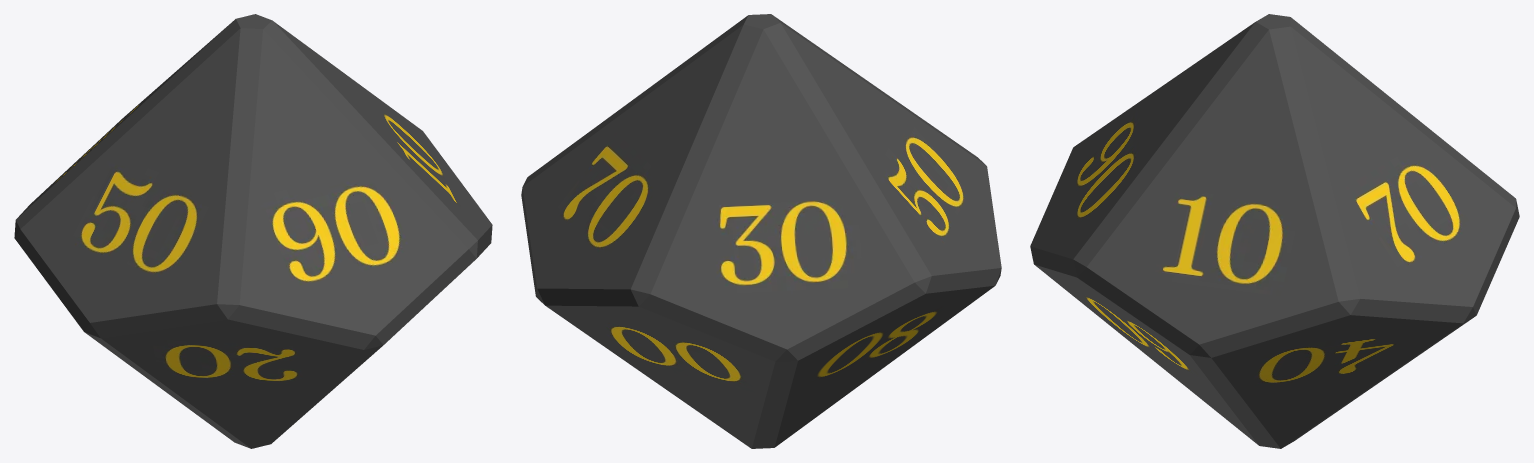
The model's file is D10x10Gilded.glb.
The picture shows the model from 3 angles, left to right: view 1: azimuth 30°, elevation 25°; view 2: azimuth 150°, elevation 25°; view 3: azimuth 270°, elevation 25°; orthographic projection.
Parts seen in each view (by area): view 1: D10x10Gilded; view 2: D10x10Gilded; view 3: D10x10Gilded.
Boxes of the visible parts, x1=… form: D10x10Gilded: x1=14, y1=14, x2=492, y2=448; D10x10Gilded: x1=521, y1=14, x2=1001, y2=448; D10x10Gilded: x1=1030, y1=14, x2=1519, y2=448.
Size of the model in its own units: 2.95 by 2.93 by 3.1.
Materials: 1 (1 with a texture image).
